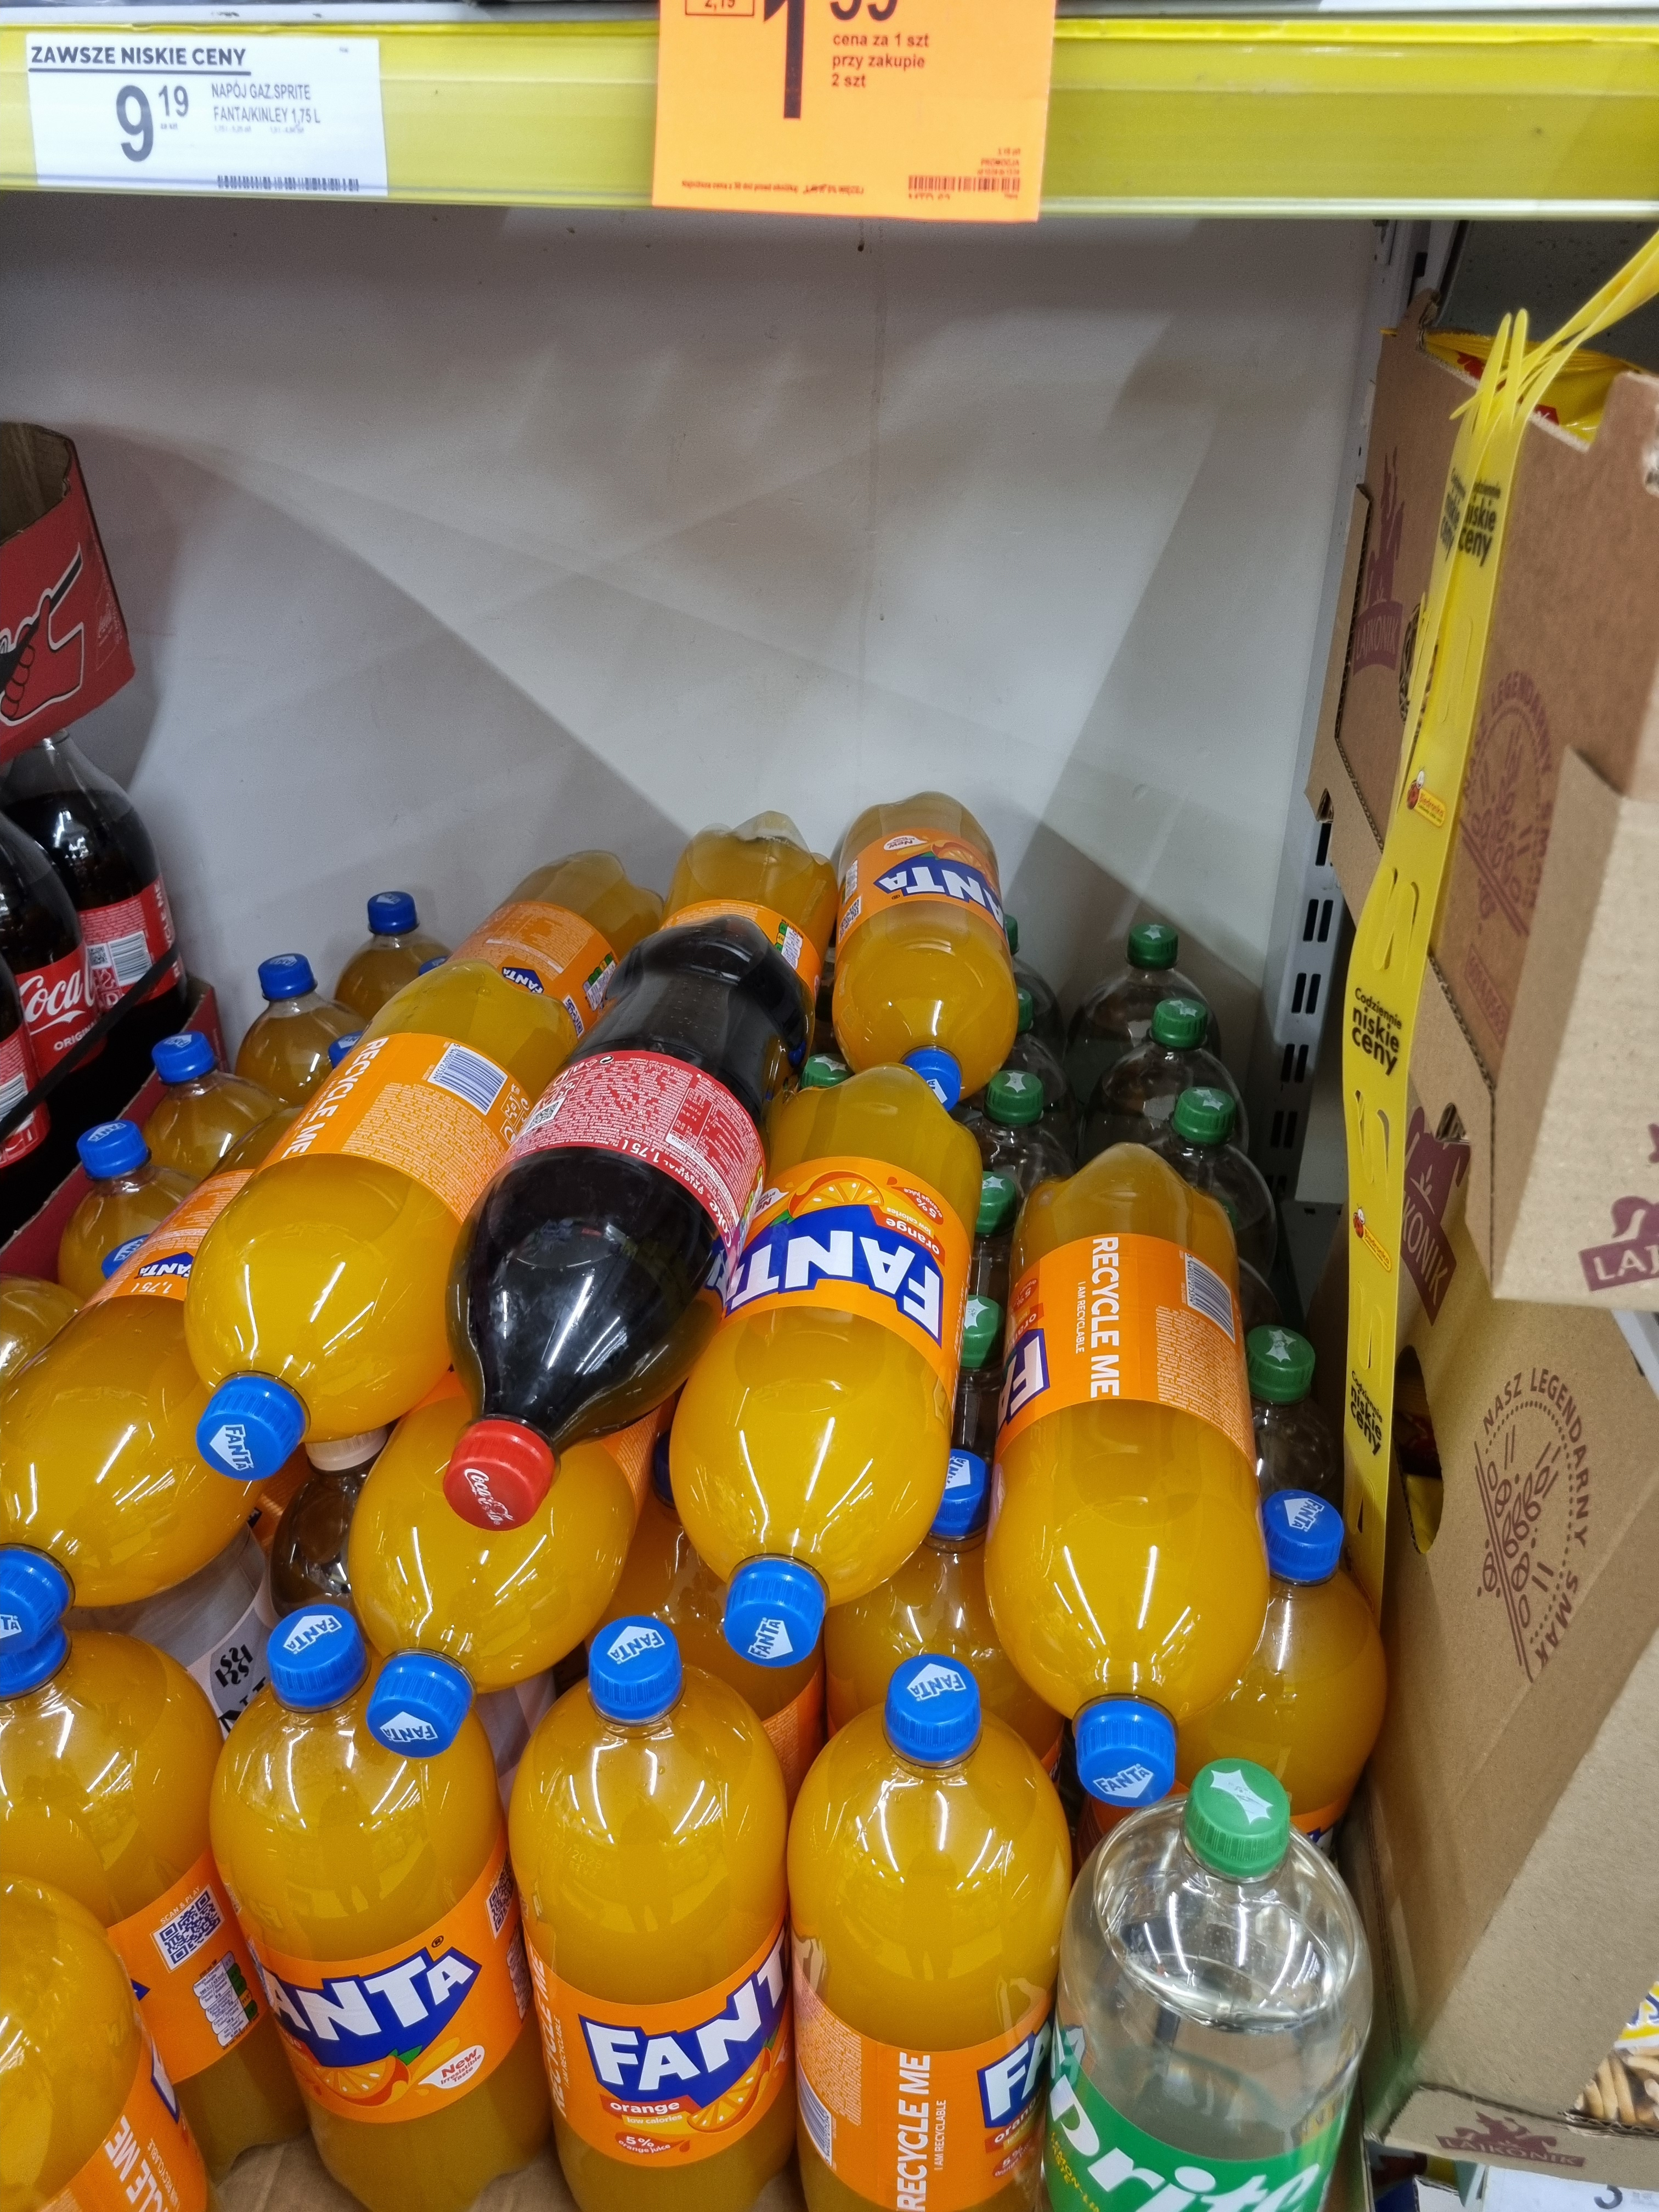Coca Cola: (432, 916, 803, 1531), (0, 728, 211, 1005), (0, 820, 131, 1071), (0, 951, 52, 1181)
